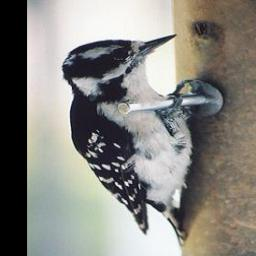Woodpecker: (61, 34, 202, 247)
